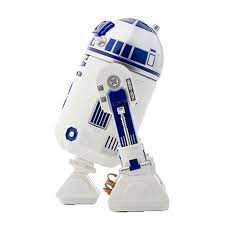r2d2: (54, 17, 169, 212)
